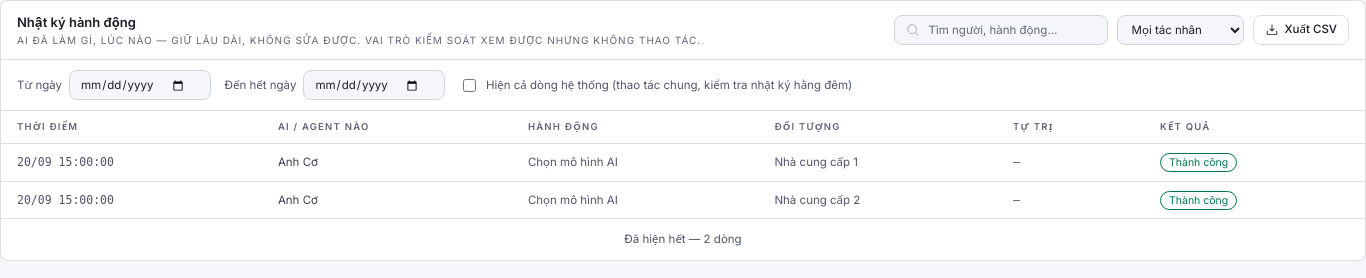
Test case: Nhật ký hành động › xem hết, tìm phía máy chủ (F099) › ô tìm gửi q + mã hành động có nhãn tiếng Việt khớp lên máy chủ, không lọc tại máy
The image size is (1366, 278).
Check: the text "Nhà cung cấp 1" is shown, box x1=758 y1=144 x2=997 y2=181
Type "đăng nhập" into the field named "Tìm trong nhật ký". click: coordinates (1011, 30)
box: x1=927 y1=21 x2=1096 y2=40
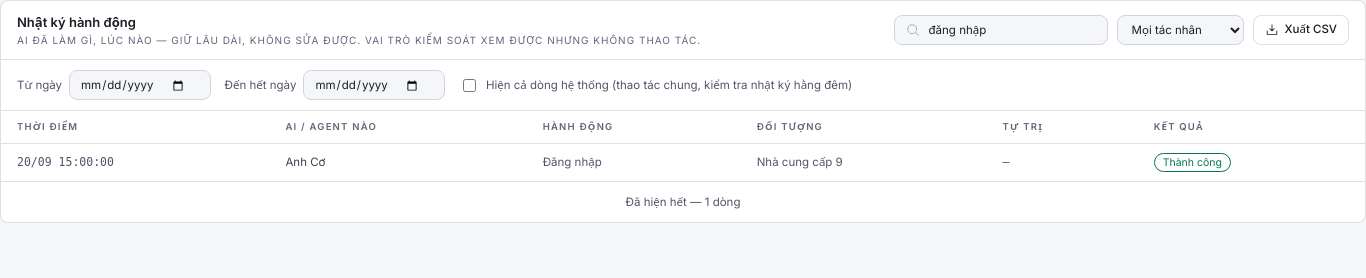
Check: the text "Đăng nhập" is shown, box x1=527 y1=144 x2=741 y2=181
Check: the text "Nhà cung cấp 1" is gone
